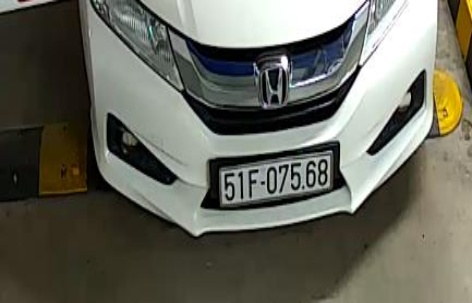plate: (209, 148, 343, 207)
